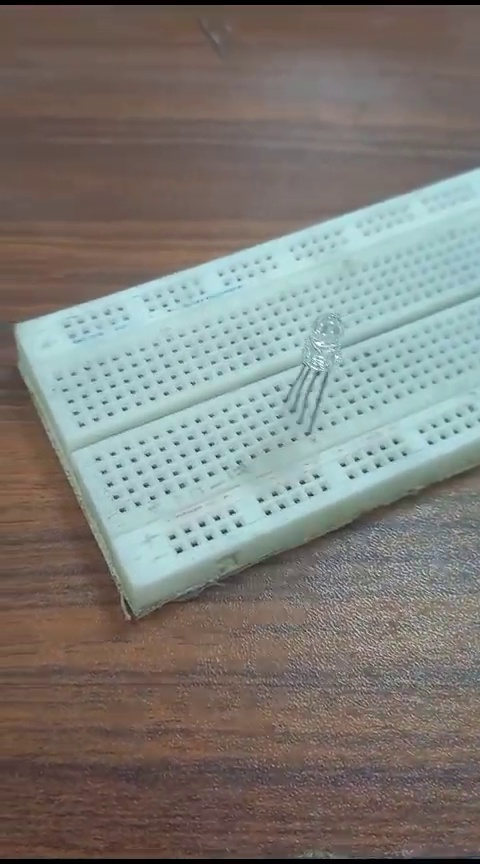LED: (286, 303, 344, 439)
